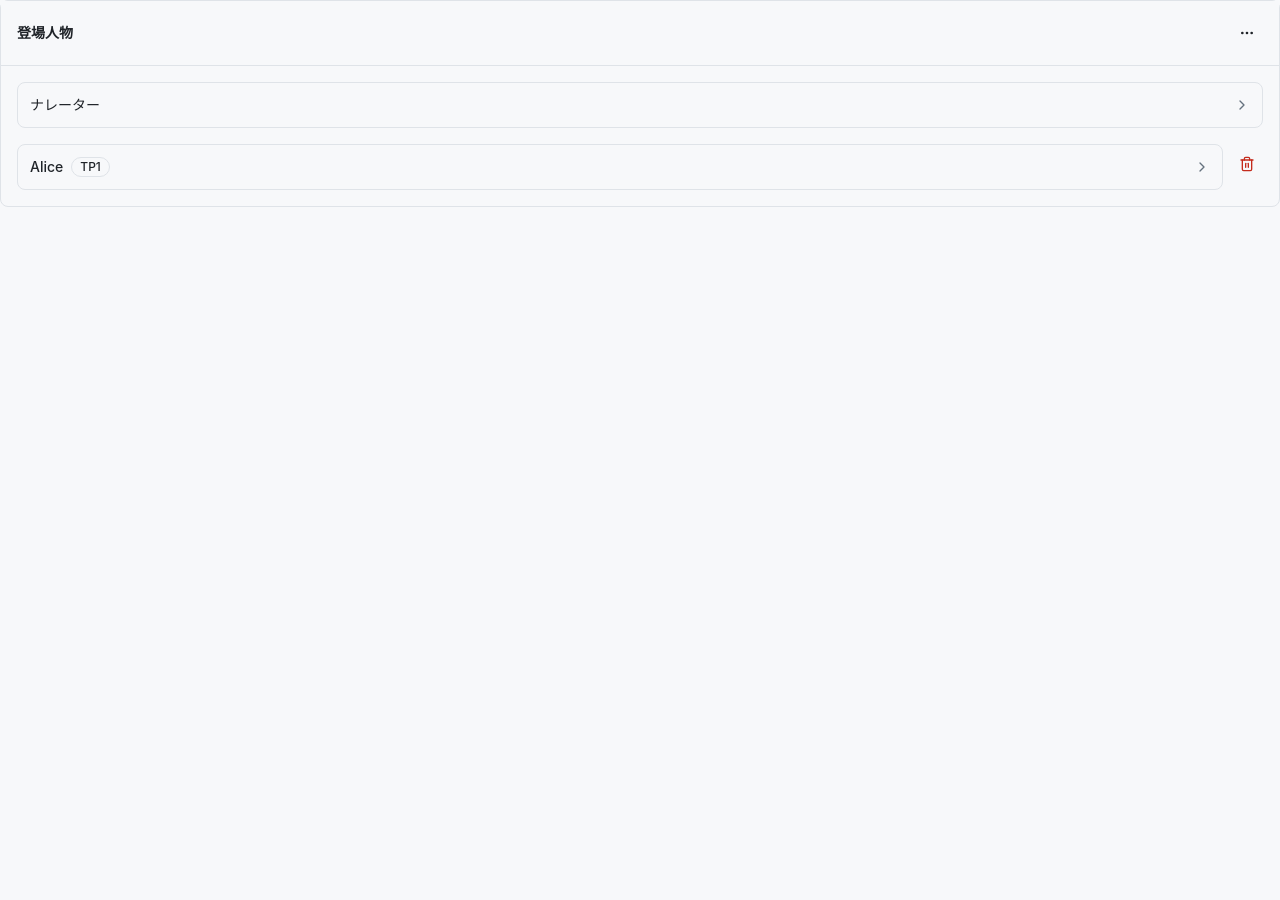
AnalysisContent 登場人物セクション › キャラクター詳細を展開すると voice_traits の行を表示する
Click the button with aria-label "Aliceを開く".
click(47, 166)  # box x1=18 y1=145 x2=1222 y2=189
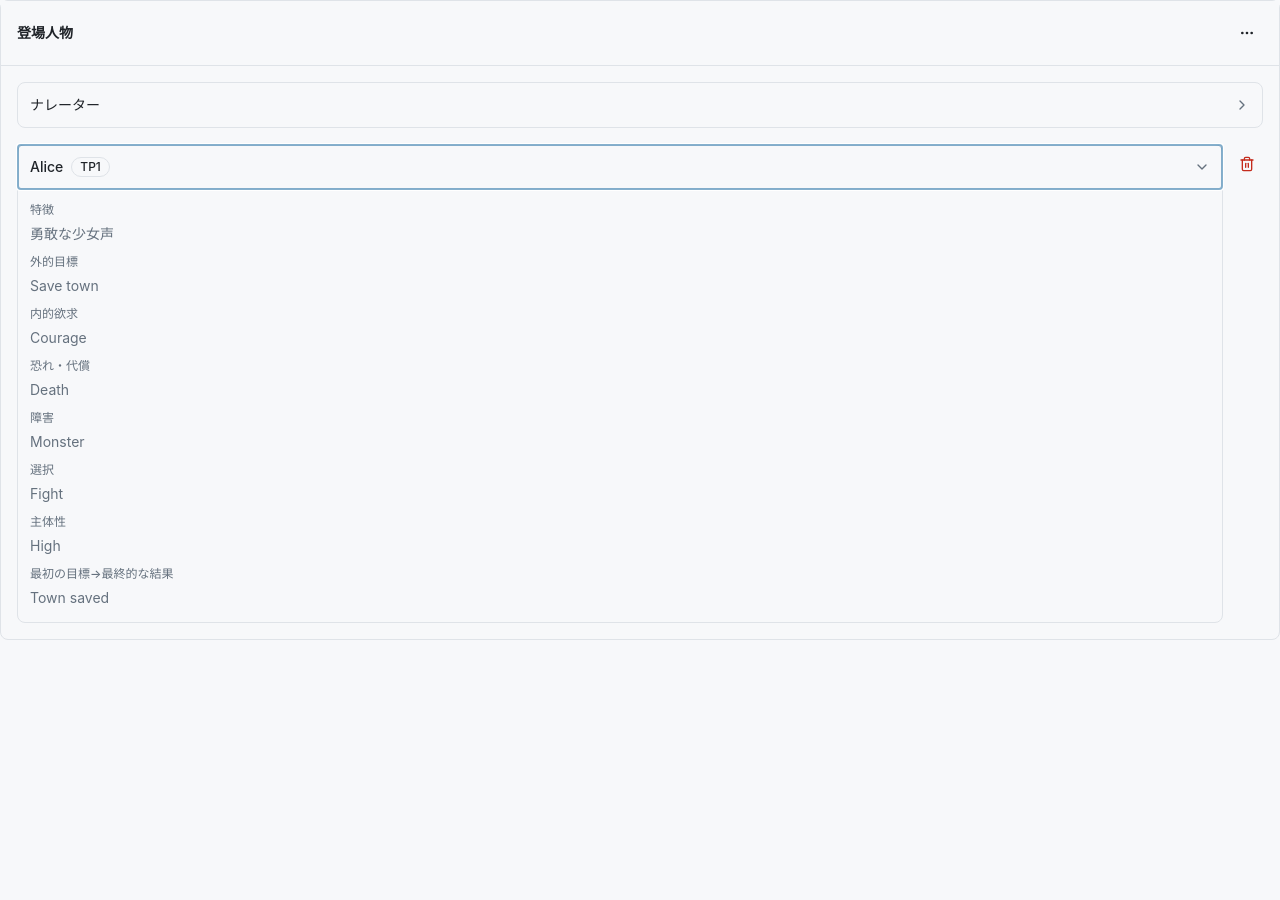
Check: the text "勇敢な少女声" is shown, box x1=30 y1=225 x2=114 y2=242
